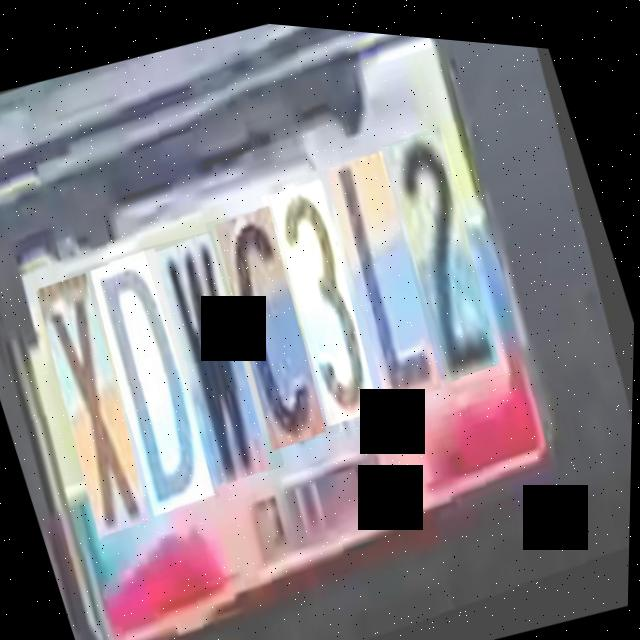2: (373, 119, 523, 383)
3: (257, 170, 399, 424)
C: (202, 196, 347, 447)
D: (77, 235, 237, 510)
L: (314, 142, 463, 406)
W: (140, 221, 291, 484)
X: (20, 260, 172, 532)
